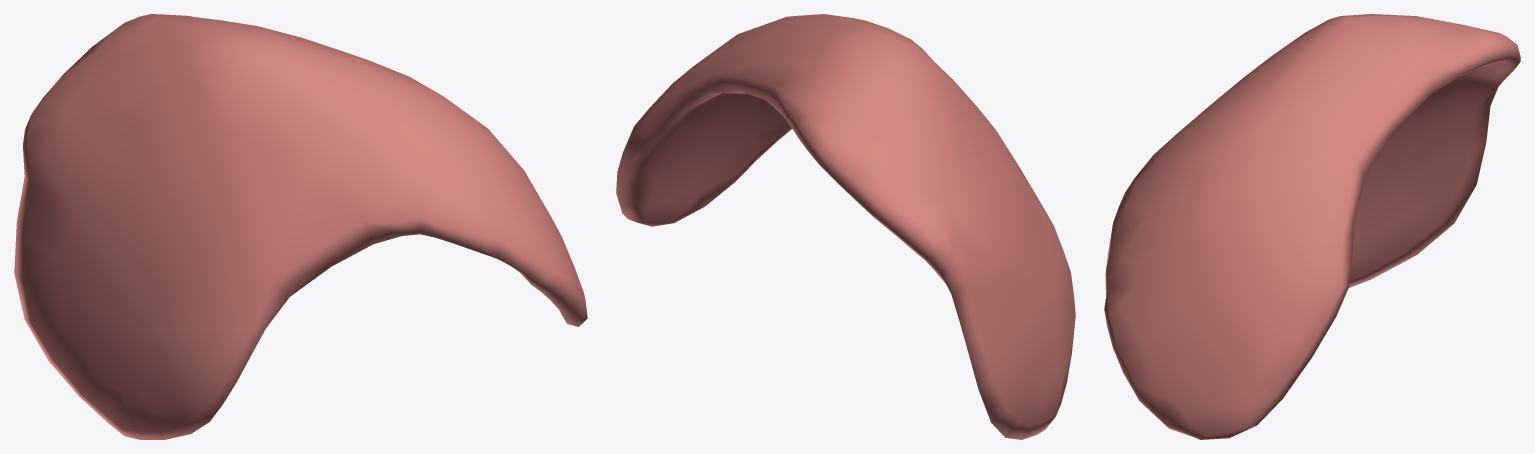
The picture shows the model from 3 angles, left to right: view 1: azimuth 30°, elevation 25°; view 2: azimuth 150°, elevation 25°; view 3: azimuth 270°, elevation 25°; orthographic projection. The views are drawn at different scales.
Parts seen in each view (by area): view 1: ZA_808a09f4f3a1fdde; view 2: ZA_808a09f4f3a1fdde; view 3: ZA_808a09f4f3a1fdde.
Part boxes in pixels (bbox=[...]): ZA_808a09f4f3a1fdde: bbox=[14, 14, 587, 439]; ZA_808a09f4f3a1fdde: bbox=[616, 14, 1075, 439]; ZA_808a09f4f3a1fdde: bbox=[1104, 14, 1520, 439].
Size of the model in its own units: 0.00904 by 0.00674 by 0.00726.
